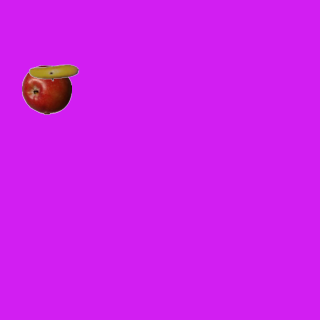Apple Braeburn: (21, 64, 71, 114)
Banana: (28, 47, 78, 97)
